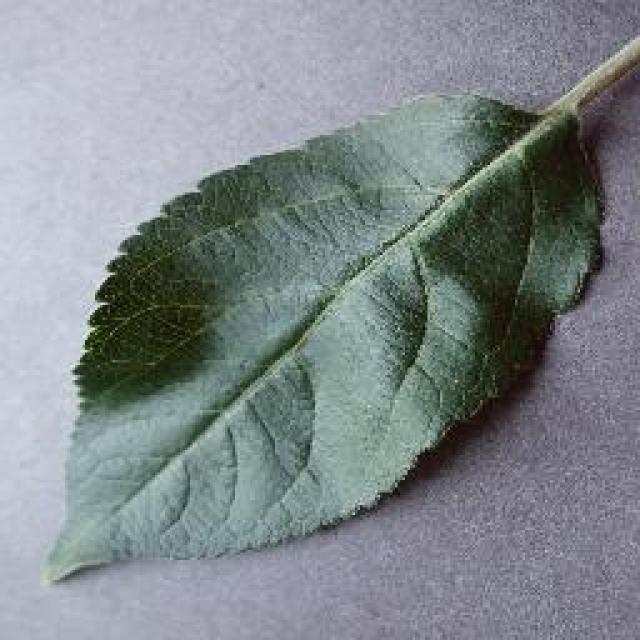apple healthy: (38, 0, 638, 585)
